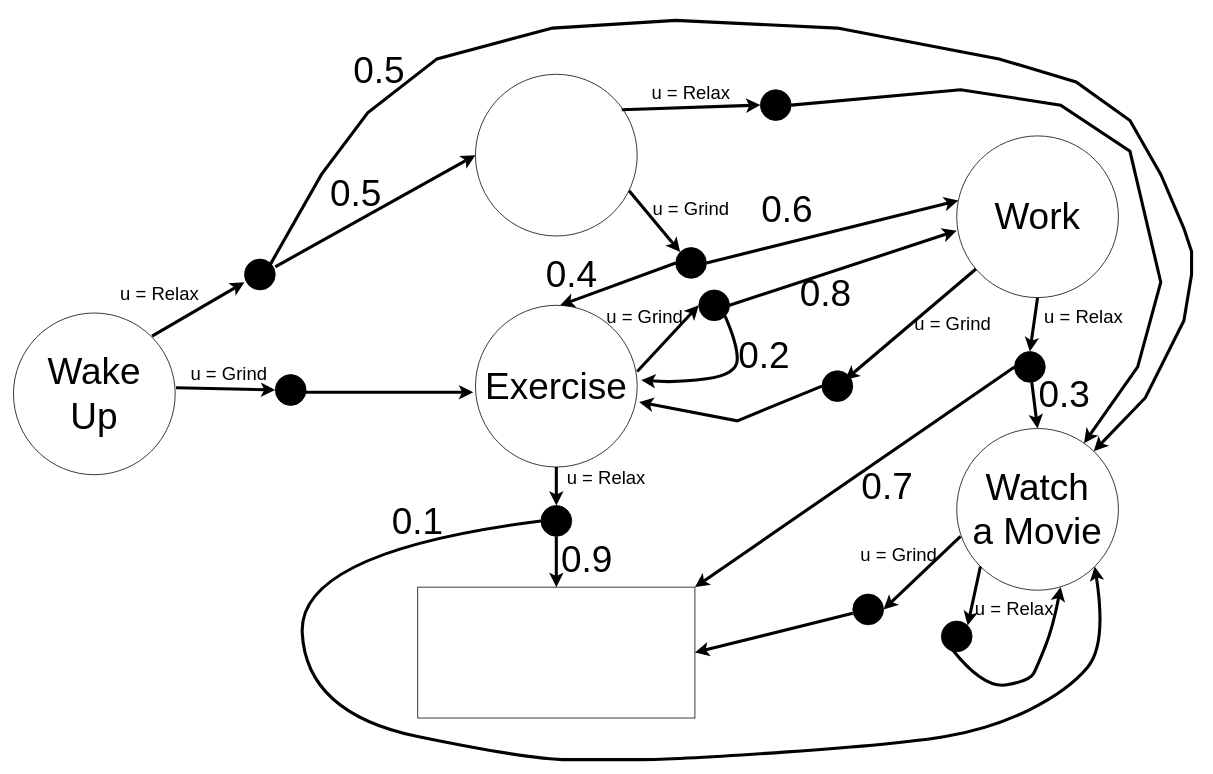
The diagram is 1213 pixels wide and 774 high, and some of its shapes have lost their labels. Each missing label, with the centre of its shape:
Browse Social Media: [556,155]
Sleep: [556,652]
